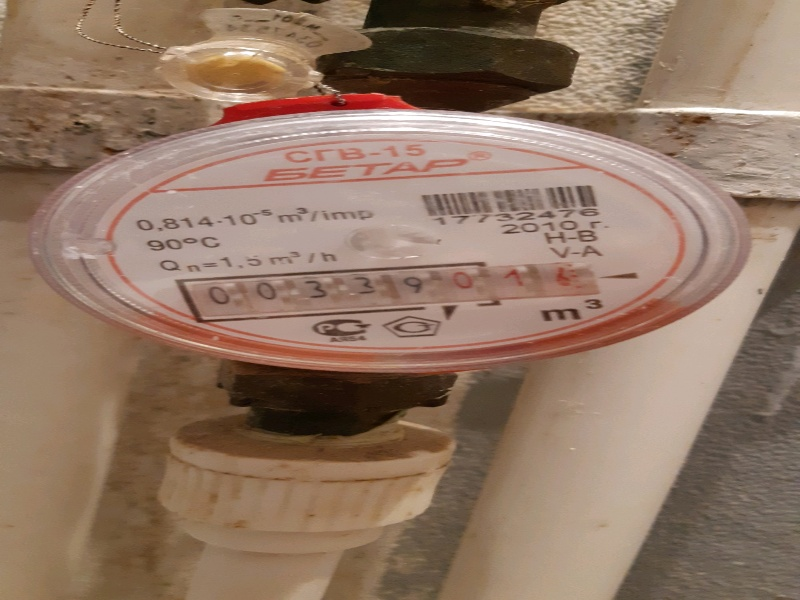dial: (194, 268, 586, 304)
